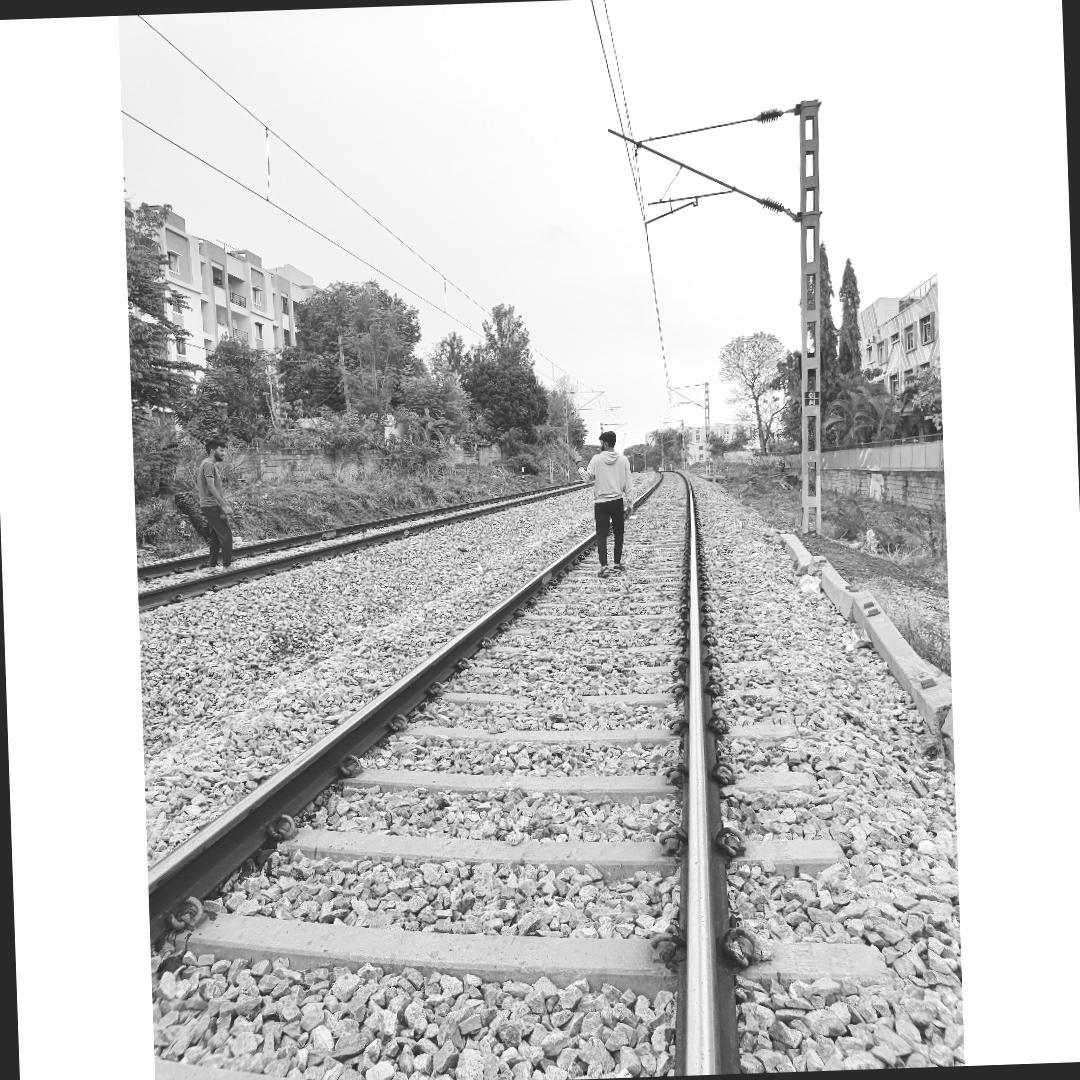standing: (573, 427, 638, 576), (194, 436, 238, 572)
track: (144, 461, 826, 1080)
